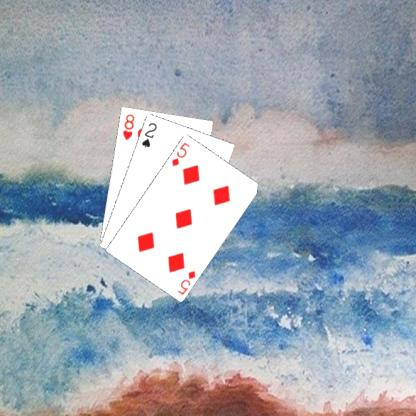2S: (139, 119, 158, 149)
5D: (168, 139, 191, 168), (174, 268, 197, 296)
8H: (120, 112, 136, 141)
